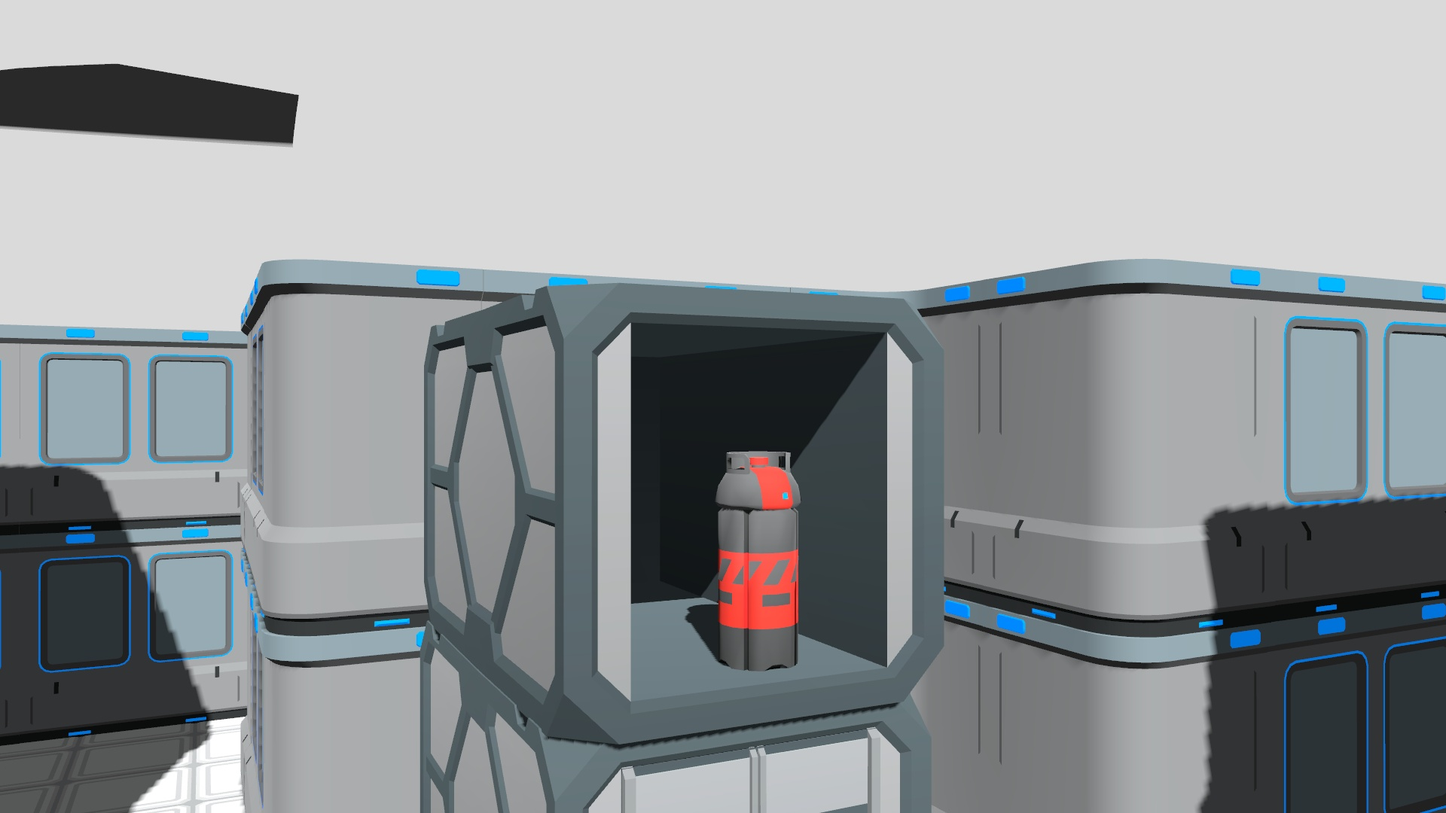red_barrel: (712, 442, 807, 677)
